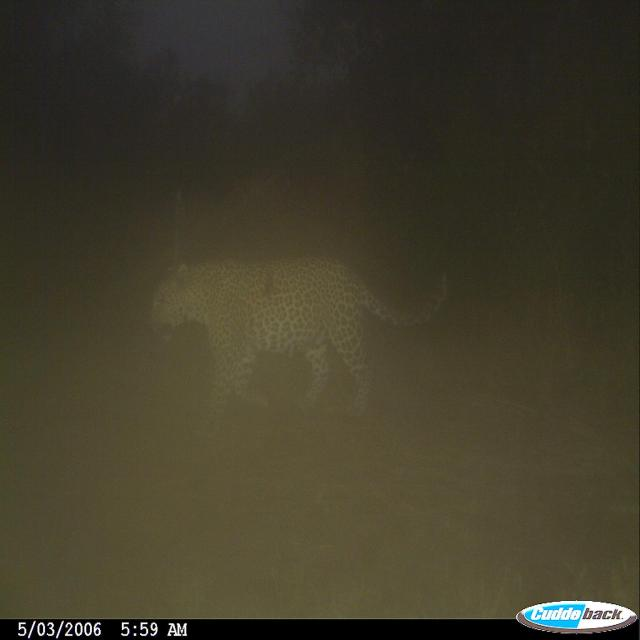Leopard: (136, 250, 418, 385)
